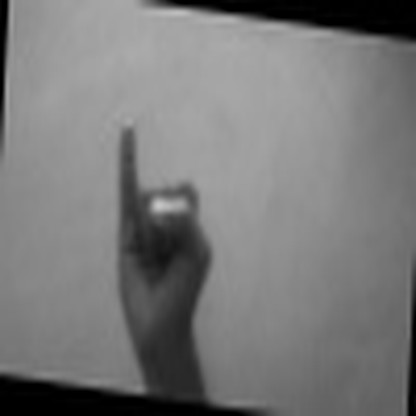i: (92, 113, 225, 348)
